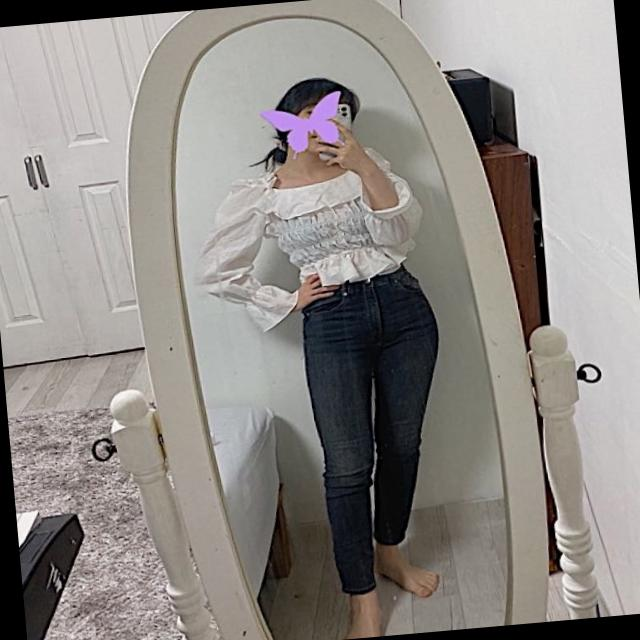denimpants: (294, 262, 460, 600)
shirt: (189, 137, 434, 325)
